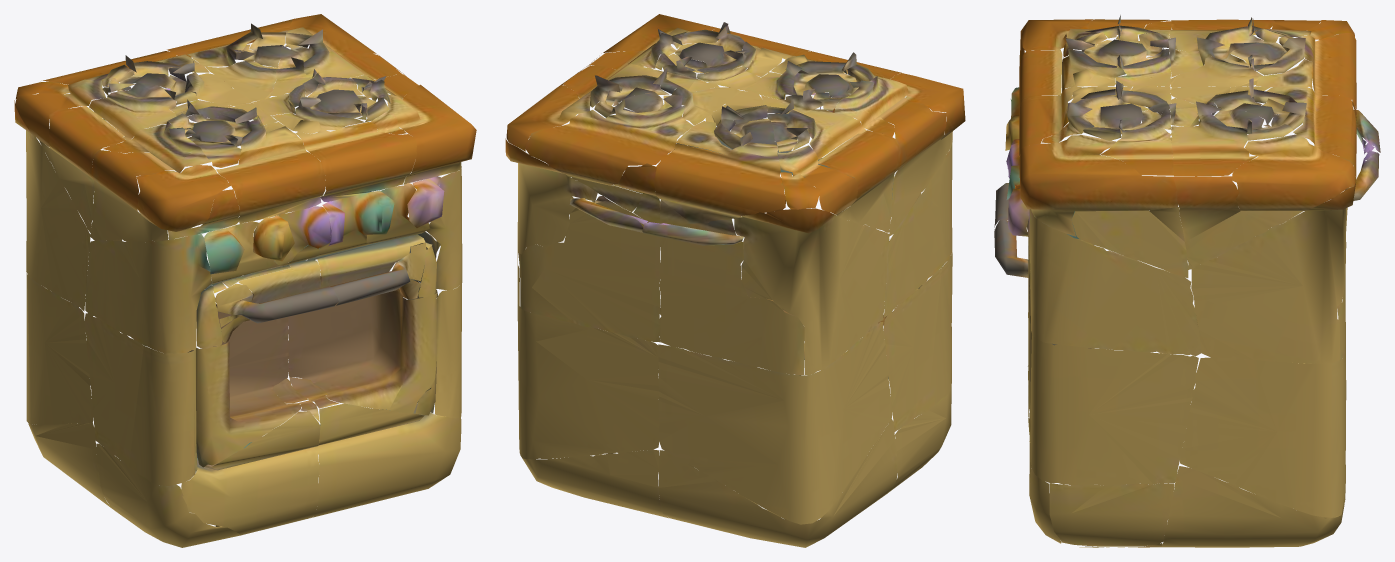
The model's file is prop_stove.glb.
3 views of the same model, side by side, from view 1: azimuth 30°, elevation 25°; view 2: azimuth 150°, elevation 25°; view 3: azimuth 270°, elevation 25° (orthographic). The views are drawn at different scales.
Visible parts, largest first — view 1: prop_stove; view 2: prop_stove; view 3: prop_stove.
Boxes of the visible parts, left/top/right/bottom form: prop_stove: left=14, top=14, right=476, bottom=547; prop_stove: left=505, top=14, right=965, bottom=547; prop_stove: left=994, top=15, right=1380, bottom=547.
Size of the model in its own units: 0.6709 by 0.8016 by 0.6752.
Materials: 1 (1 with a texture image).
